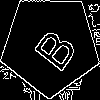B: (25, 20, 79, 74)
